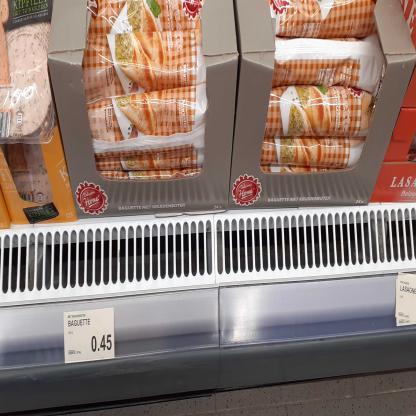prtg: (64, 308, 116, 365), (396, 272, 416, 324), (397, 280, 416, 327)
